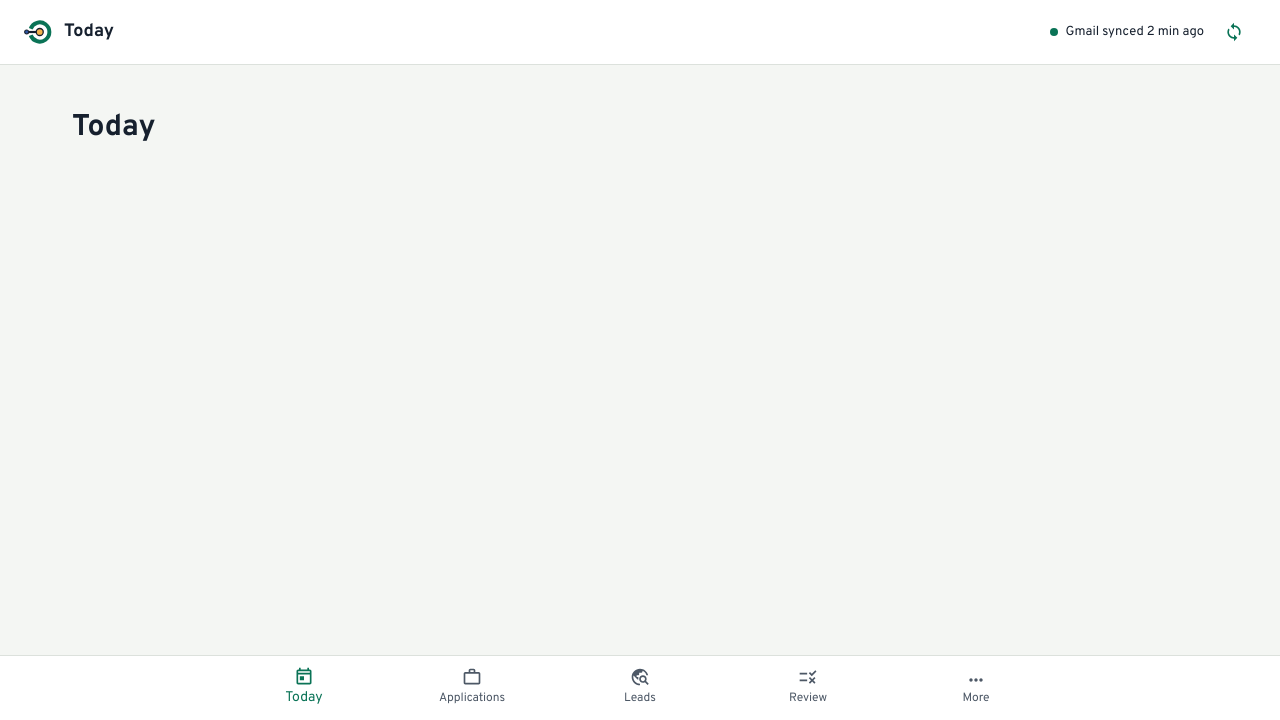
Scenario: AppShell › Keyboard shortcuts control › is in the More menu on phones
Step 1. Click the button "More" → click(976, 688), box top-left (892, 656), bottom-right (1060, 719)
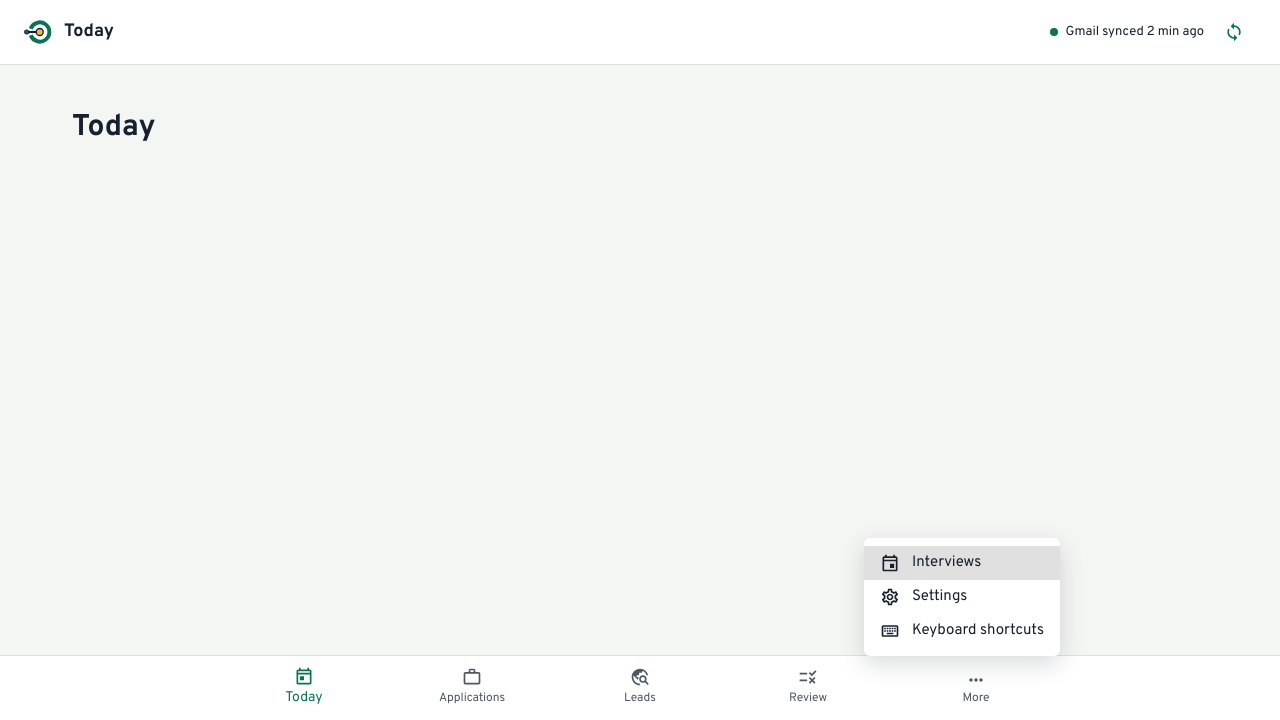
Step 2. Click the menu item "Keyboard shortcuts" → click(962, 631), box top-left (880, 621), bottom-right (1044, 641)
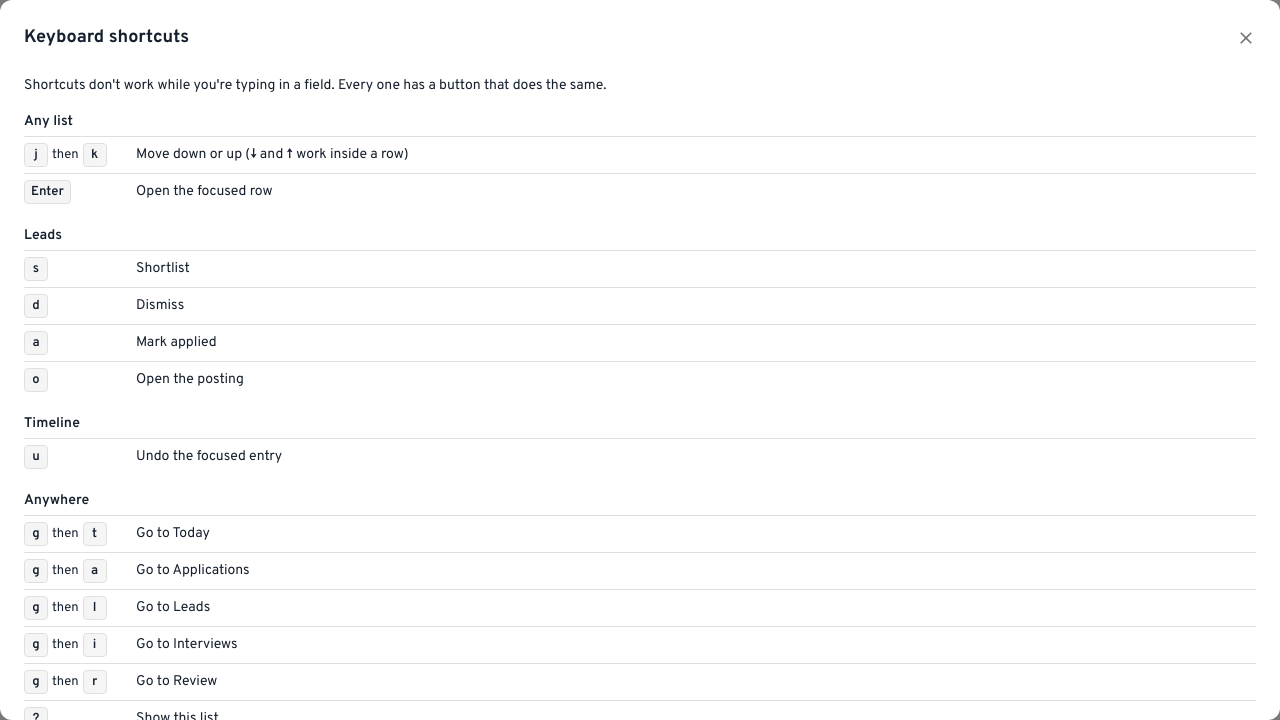
Expected: the dialog "Keyboard shortcuts" is shown
